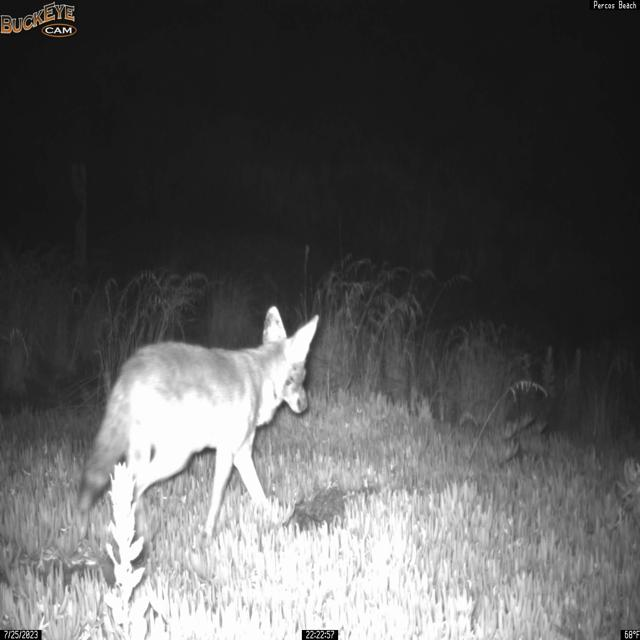coyote: (75, 305, 320, 564)
